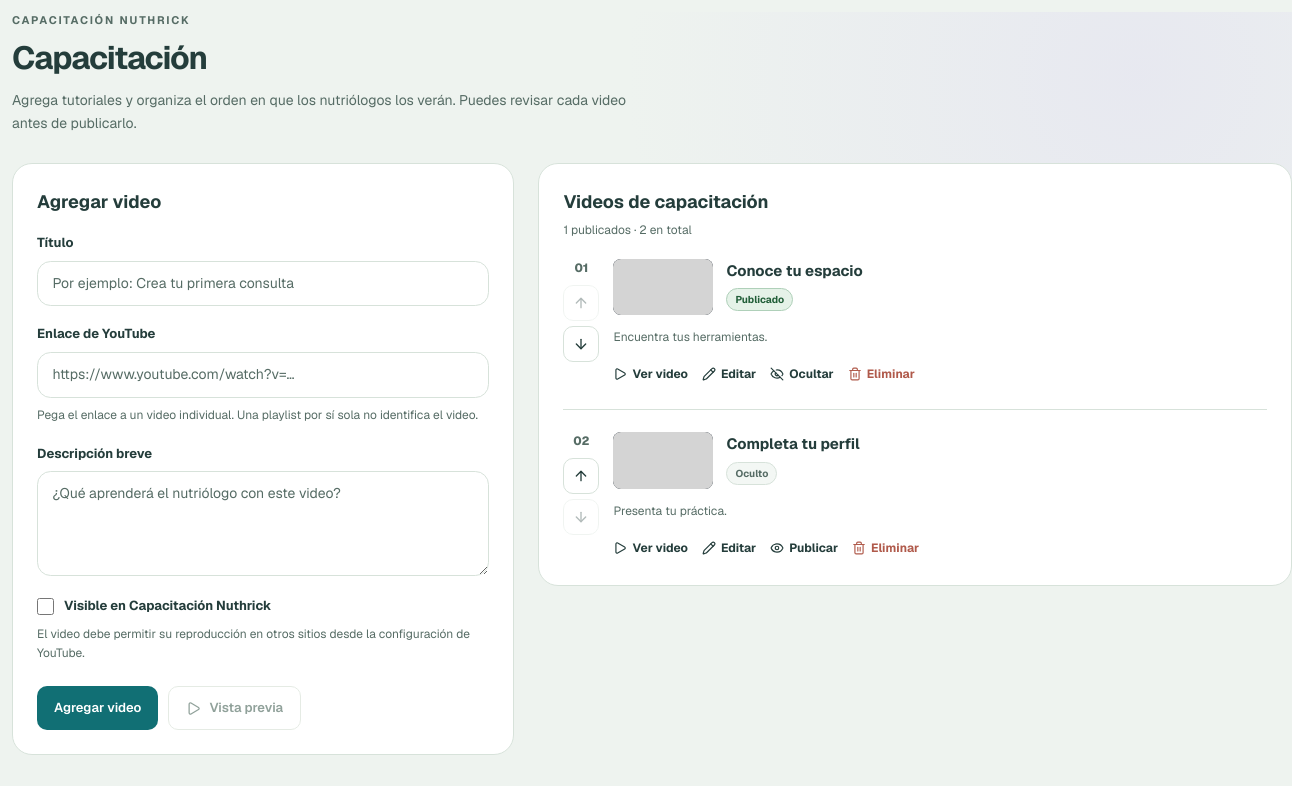
it: training administration › rejects a playlist link without sending a mutation
This screenshot has width=1292, height=786.
Check: the text "1 publicados · 2 en total" is shown, box 563,222 -> 692,238
Step 1. Type "Una playlist" into the field labelled "Título" → {"x": 263, "y": 284}, box 37,261 -> 489,306
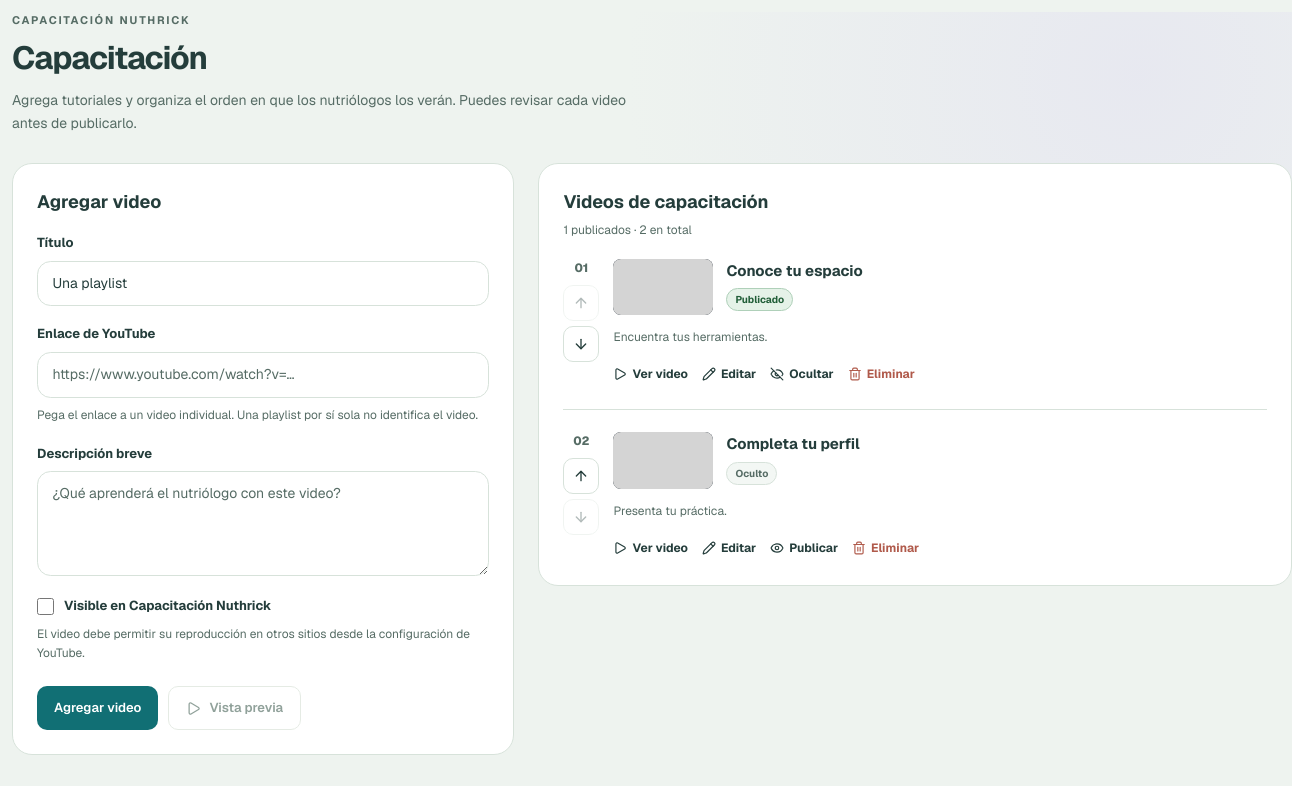
Step 2. Type "https://youtube.com/playlist?list=PLBuZvLPXwzIs" into the field labelled "Enlace de YouTube" → {"x": 263, "y": 375}, box 37,352 -> 489,398
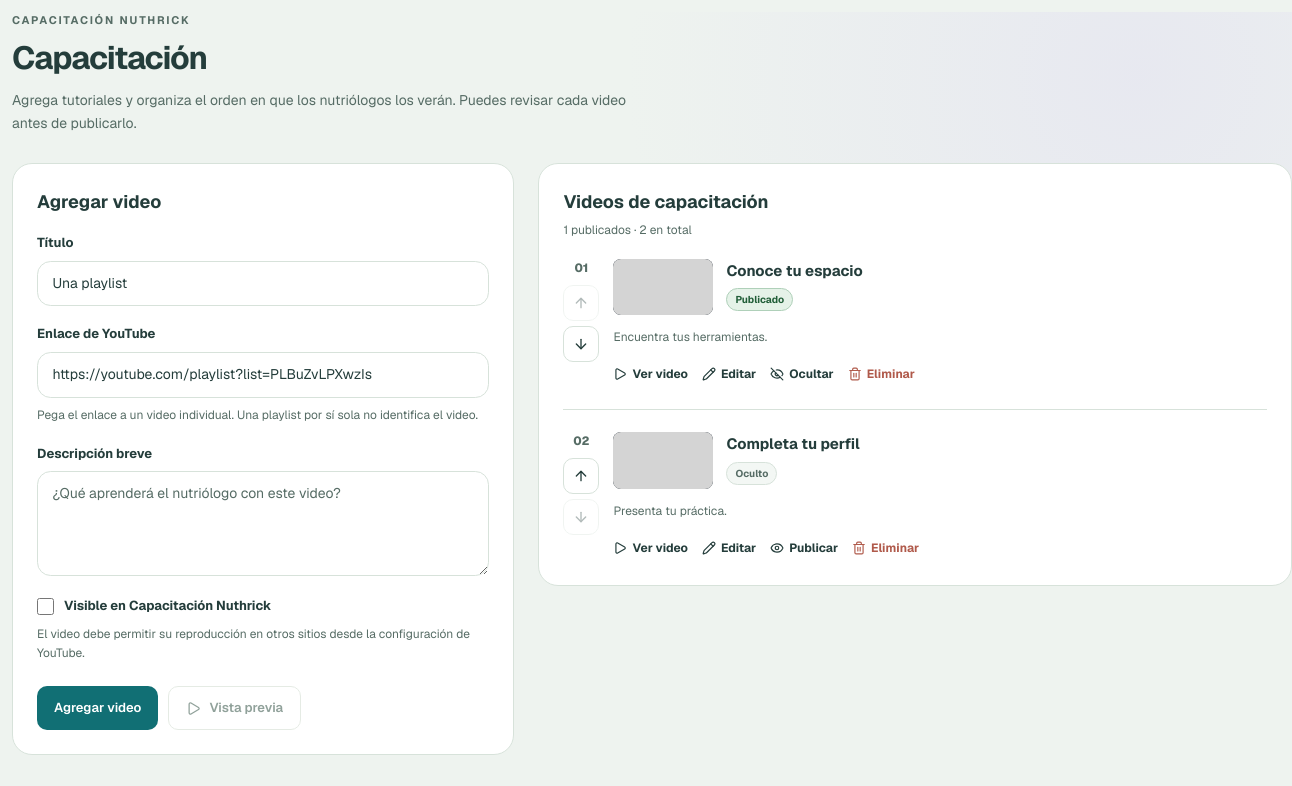
Step 3. Click the button "Agregar video" → {"x": 98, "y": 708}, box 37,686 -> 158,730
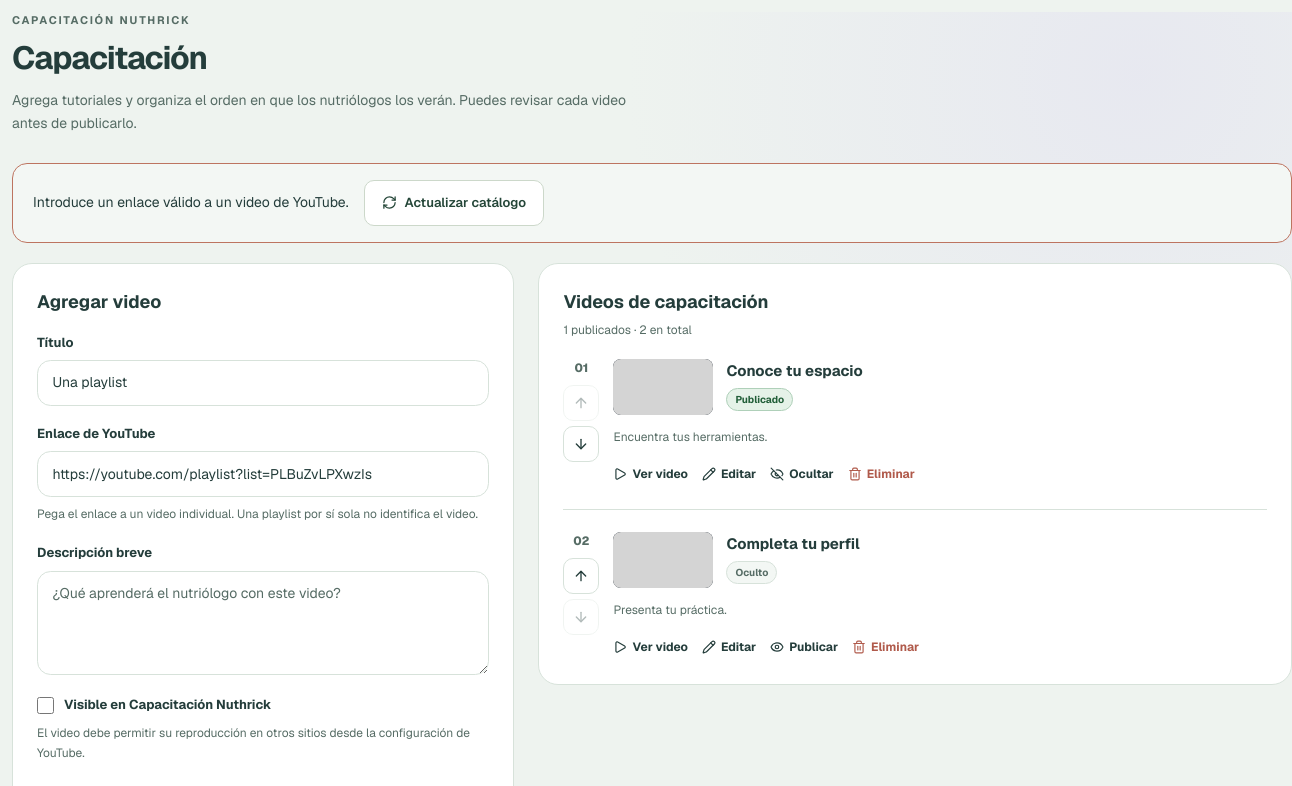
Check: the message shows "enlace válido", box 33,193 -> 348,211
